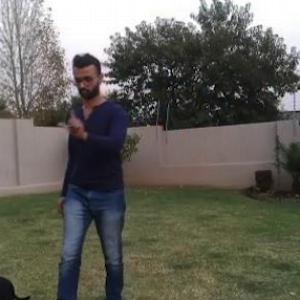land_hand: (58, 96, 94, 146)
